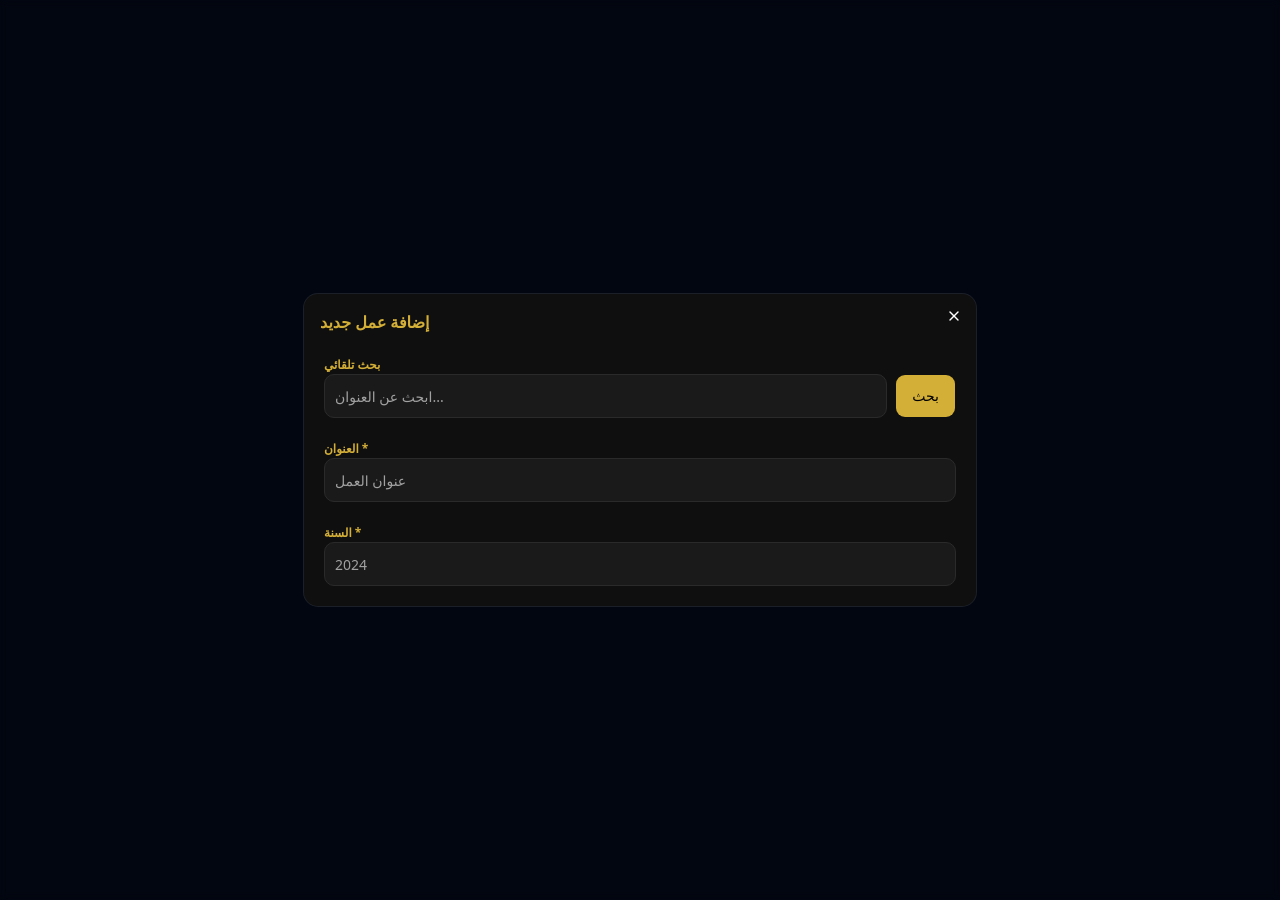
it: Add Form - Search Input (Select-All Bug Fix) › should allow continued typing without select-all interruption
# Type character by character and verify no select-all after each
In the field with placeholder "ابحث عن العنوان...": (606, 396) [324, 374, 887, 418], type "A"
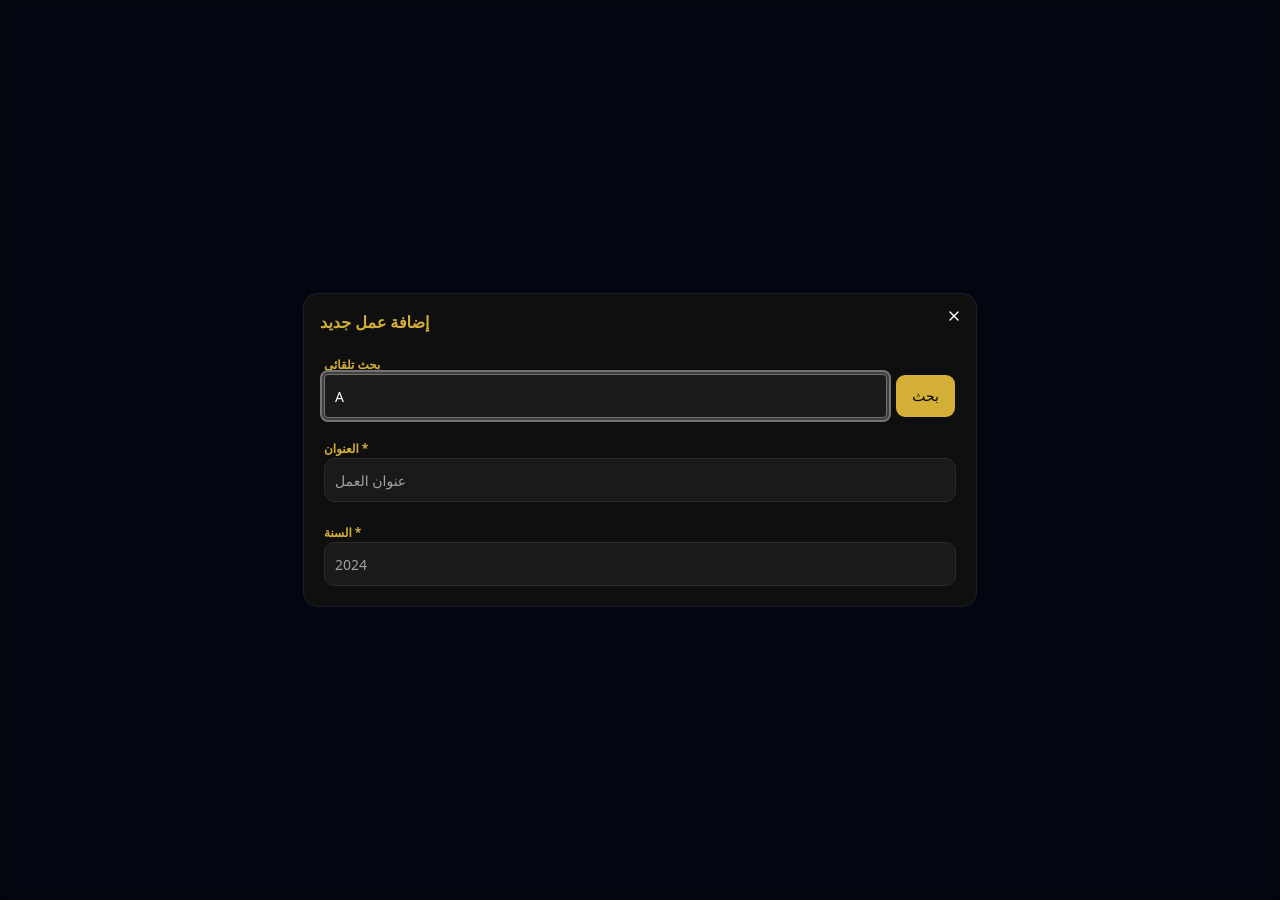
In the field with placeholder "ابحث عن العنوان...": (606, 396) [324, 374, 887, 418], type "B"
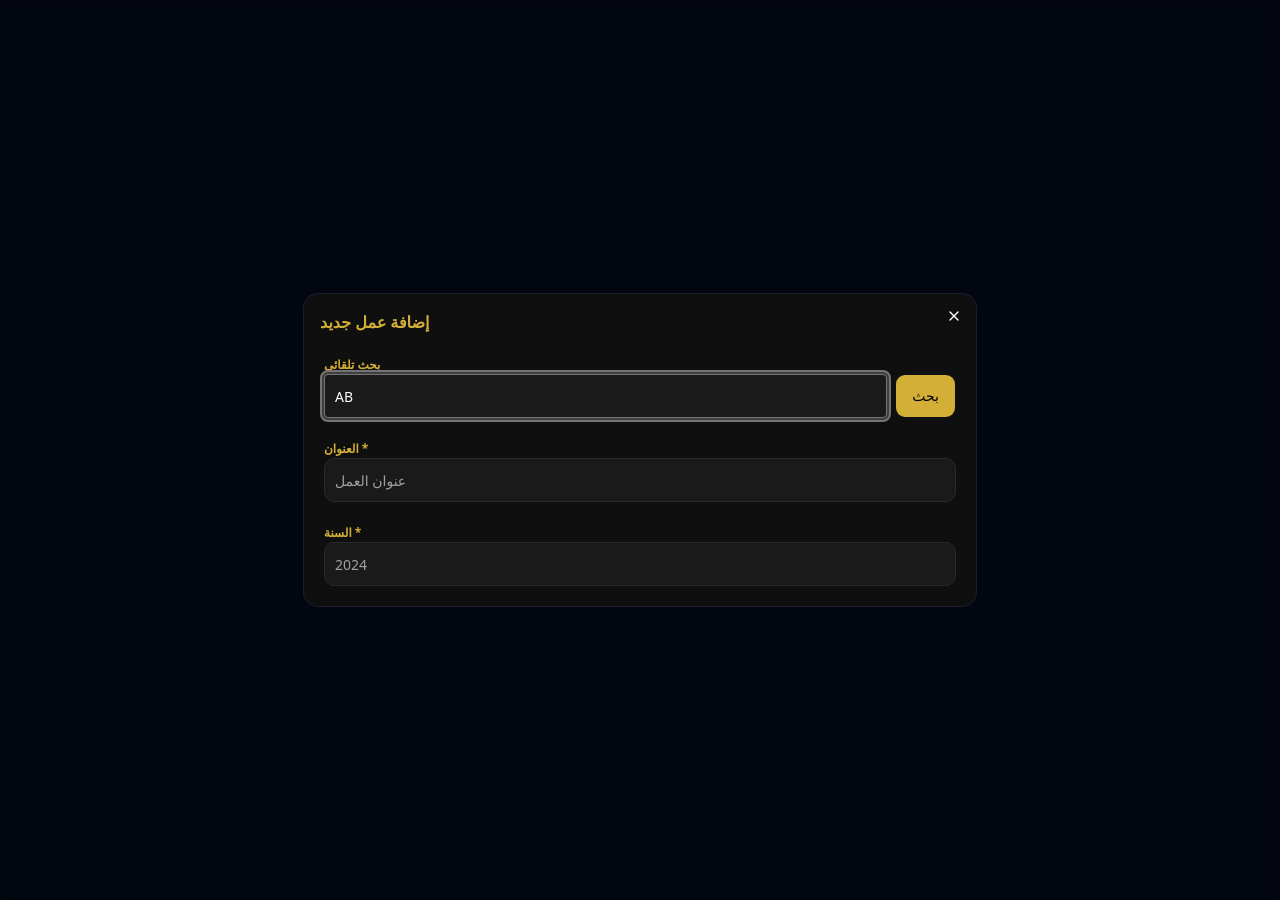
Result: the field with placeholder "ابحث عن العنوان..." holds "AB"
In the field with placeholder "ابحث عن العنوان...": (606, 396) [324, 374, 887, 418], type "C"
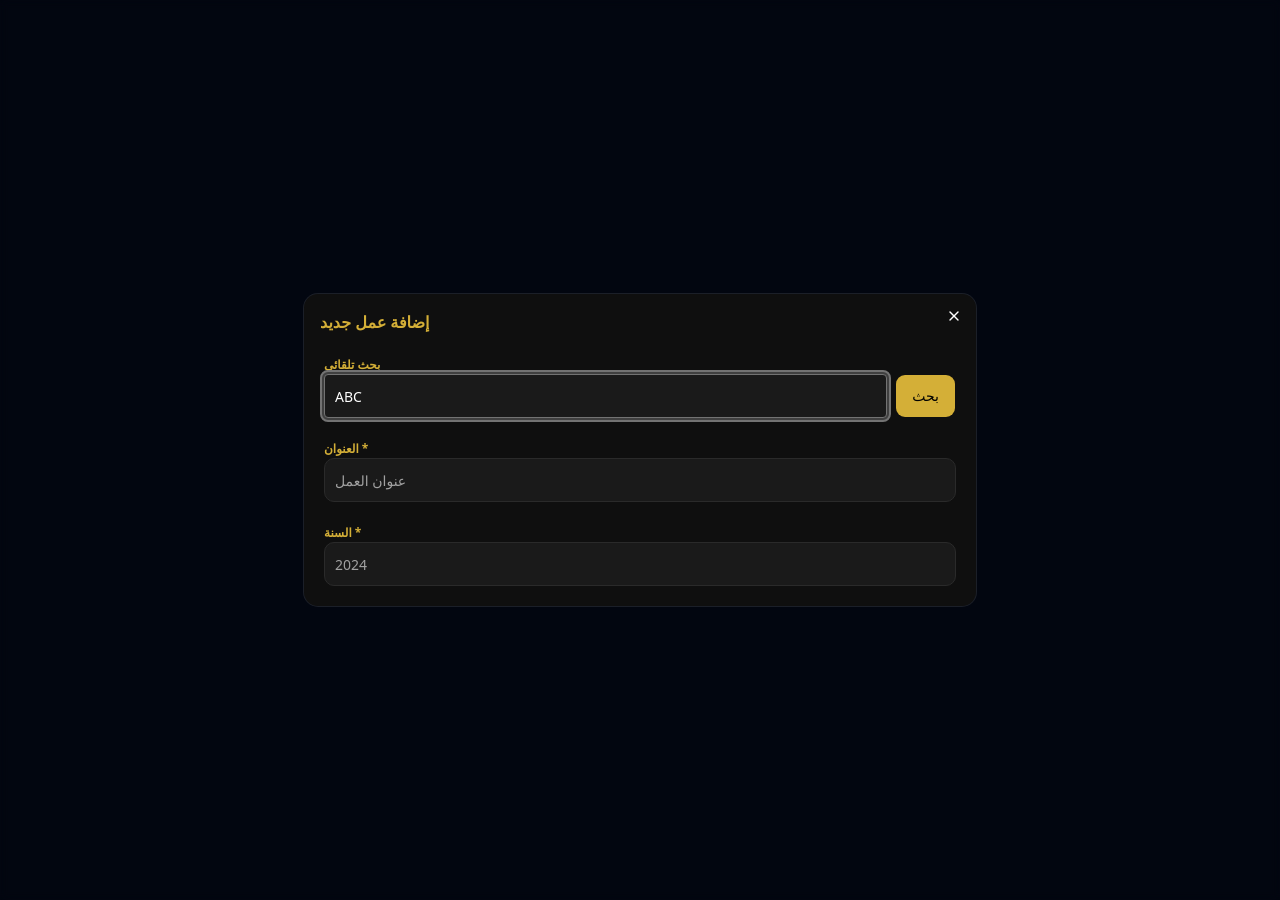
Result: the field with placeholder "ابحث عن العنوان..." holds "ABC" at [324, 374, 887, 418]
